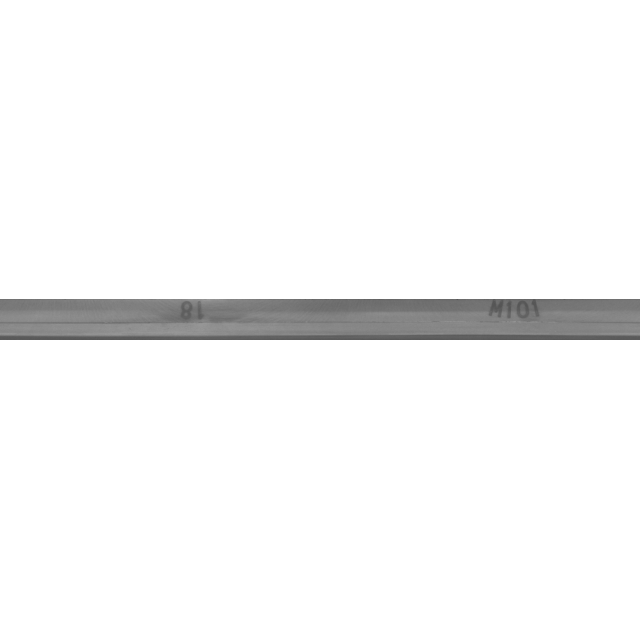mohao: (428, 270, 628, 370)
xuehao: (88, 270, 288, 370)
